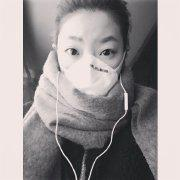OK: (56, 32, 126, 102)
